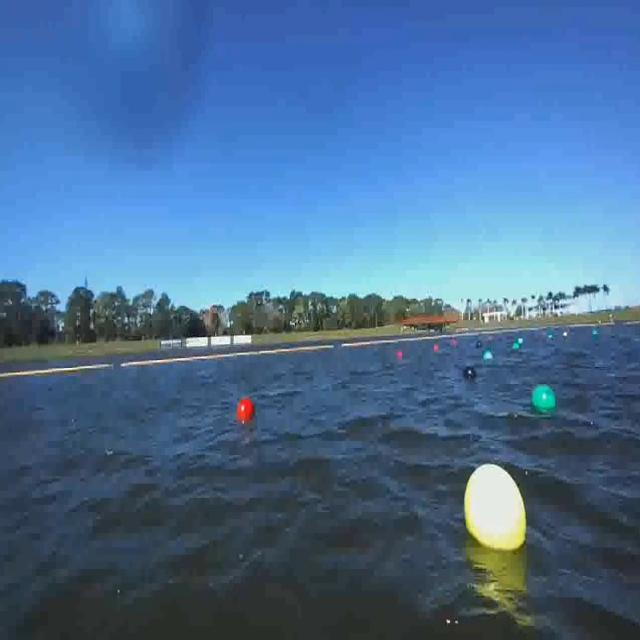black-buoy: (465, 364, 479, 380)
green-buoy: (528, 384, 556, 415)
red-buoy: (236, 400, 253, 425)
yellow-buoy: (462, 464, 527, 554)
